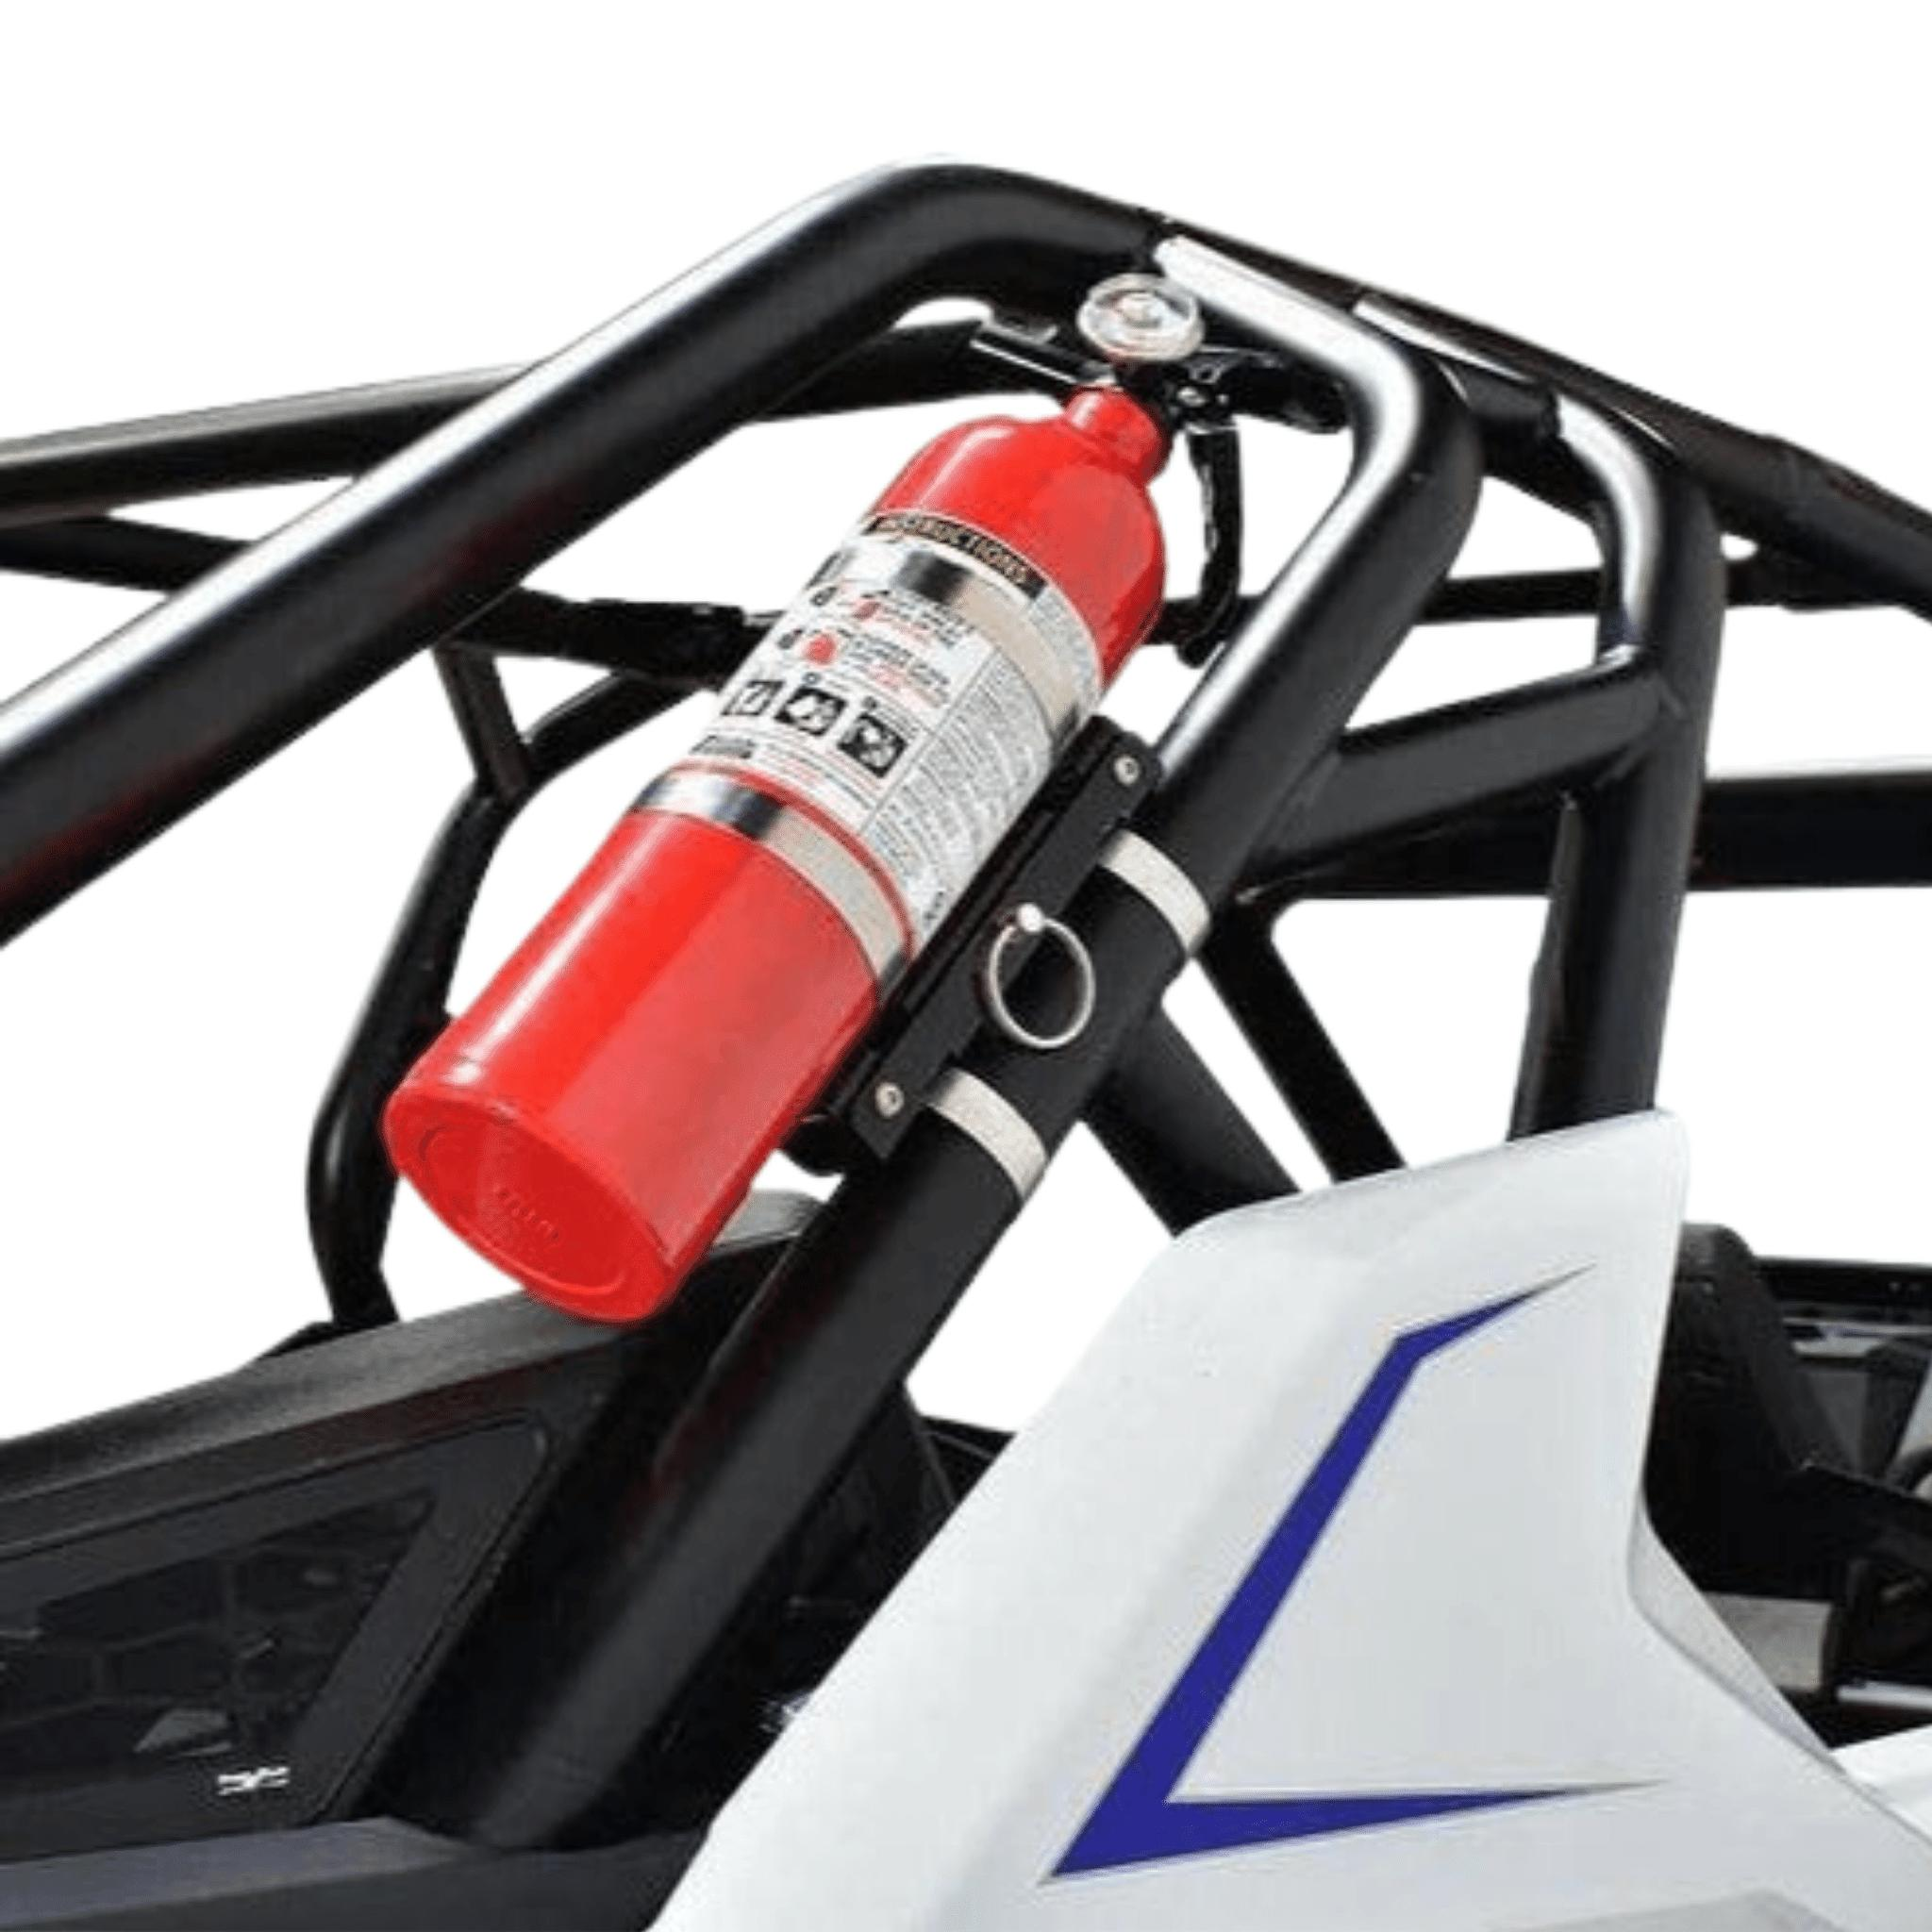Fire Extinguisher: (349, 226, 1260, 1362)
